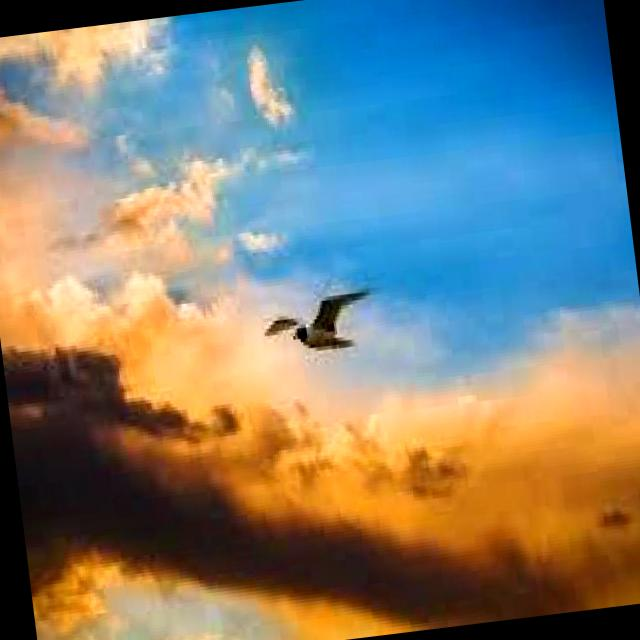bird: (259, 280, 380, 366)
